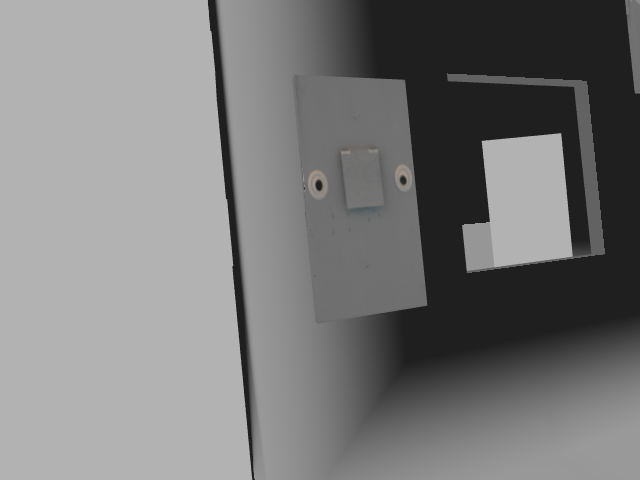facade: (306, 145, 414, 211)
